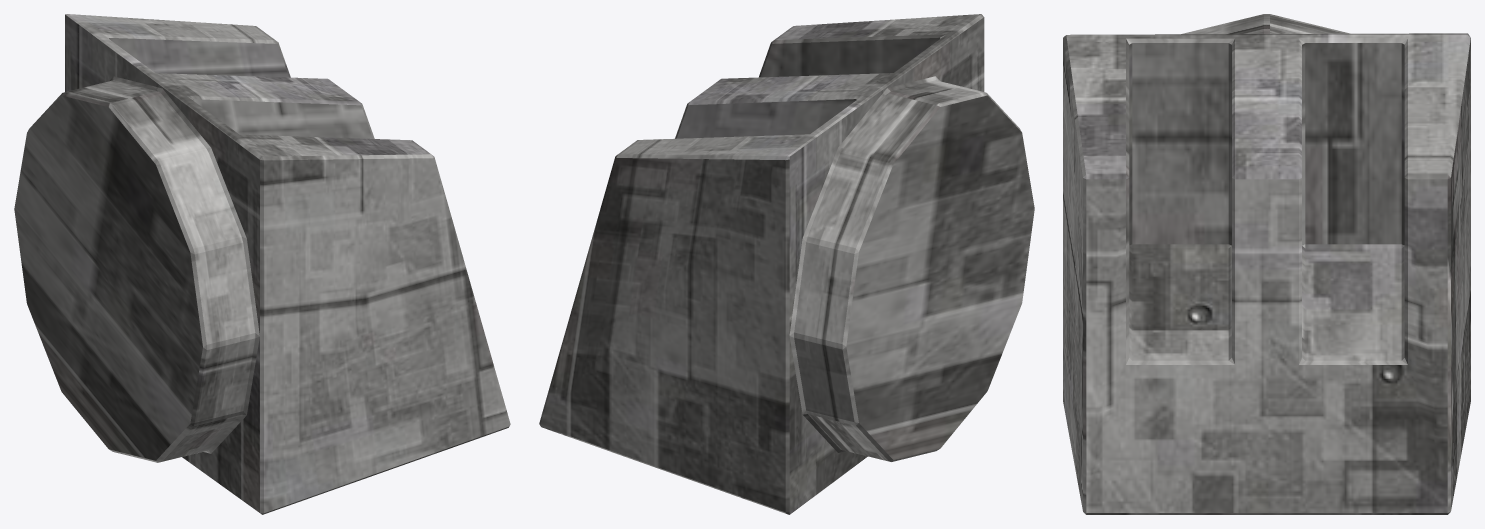
The model's file is deathstar-tower-cannon-turret.fbx.
3 views of the same model, side by side, from view 1: azimuth 30°, elevation 25°; view 2: azimuth 150°, elevation 25°; view 3: azimuth 270°, elevation 25° (orthographic). The views are drawn at different scales.
Parts seen in each view (by area): view 1: Cube.001; view 2: Cube.001; view 3: Cube.001.
Part boxes in pixels (x1=…): Cube.001: x1=14, y1=14, x2=510, y2=514; Cube.001: x1=539, y1=14, x2=1034, y2=514; Cube.001: x1=1063, y1=14, x2=1470, y2=514.
Bounding box in the file's own units: 147 × 160 × 160.
1 material, 1 textured.
